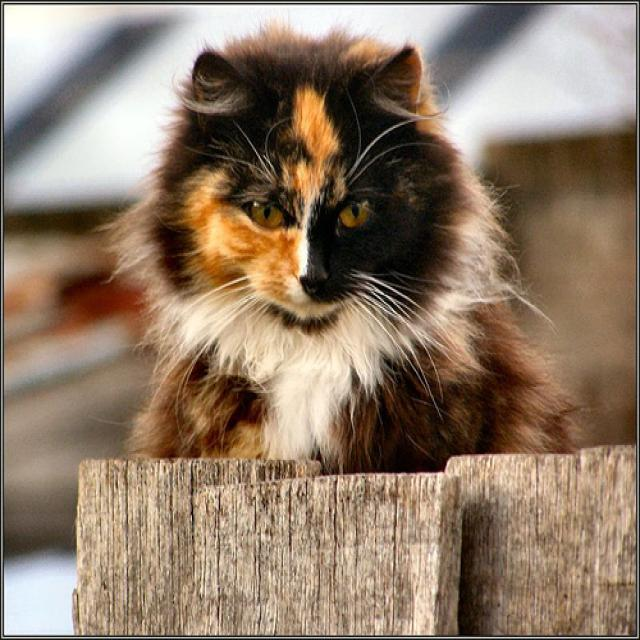left eye: (336, 195, 372, 231)
